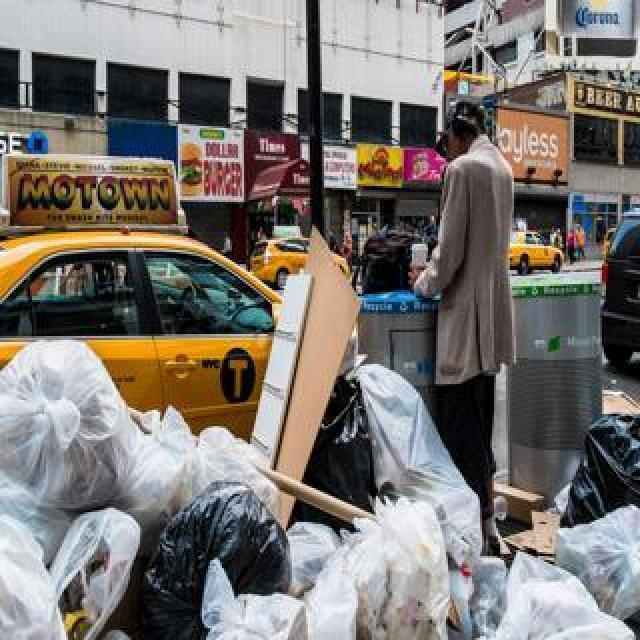Trashbag: (133, 474, 296, 640), (285, 384, 377, 526), (559, 407, 640, 530)
